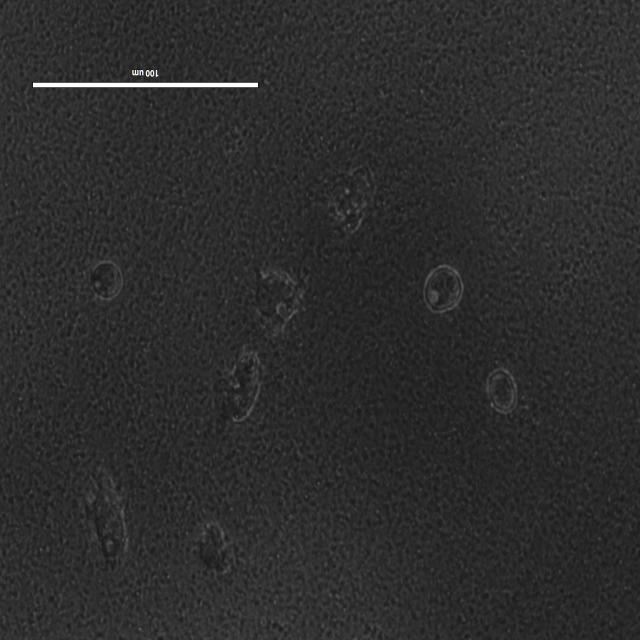Amoeba: (212, 342, 268, 427), (85, 464, 130, 567), (252, 263, 307, 336), (322, 164, 378, 234), (423, 264, 464, 313), (198, 524, 234, 574), (486, 367, 518, 414), (89, 259, 122, 302)
